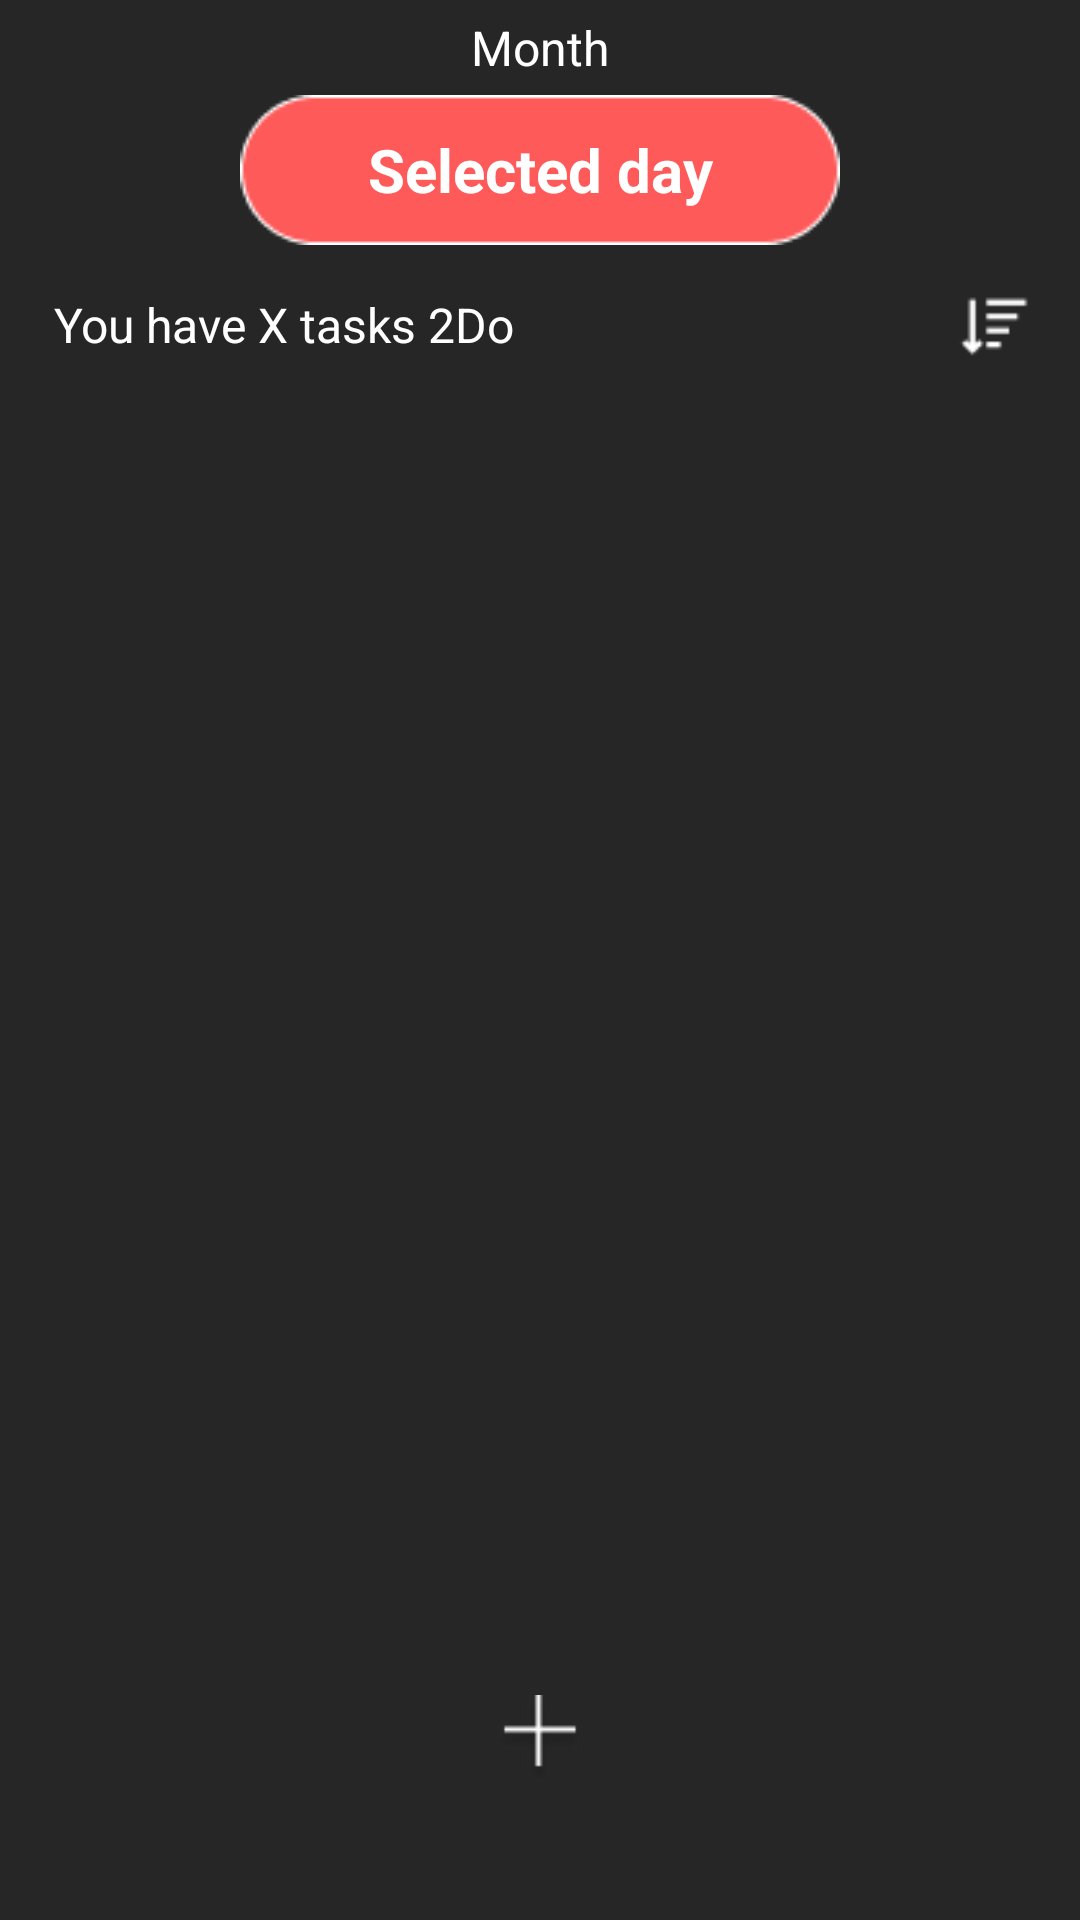

Where icons sit on this 1080*1920 app screen, as (x1, y1, x2, y2):
add: (504, 1695, 576, 1767)
sort: (962, 297, 1028, 355)
